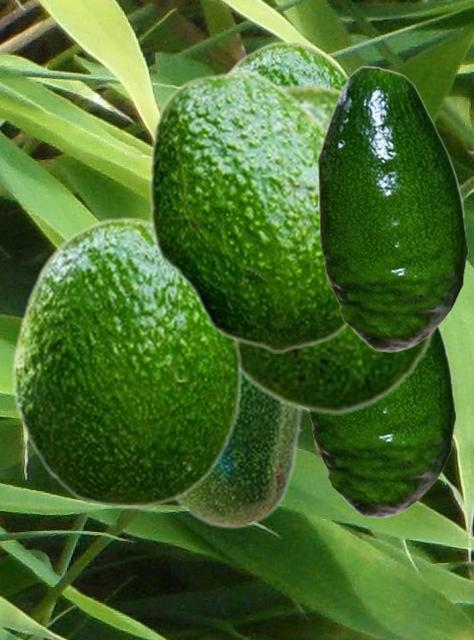avocado: (241, 83, 444, 414), (12, 216, 242, 507), (147, 67, 350, 352), (317, 65, 467, 351), (306, 327, 455, 517), (173, 380, 301, 529), (224, 40, 349, 87)
